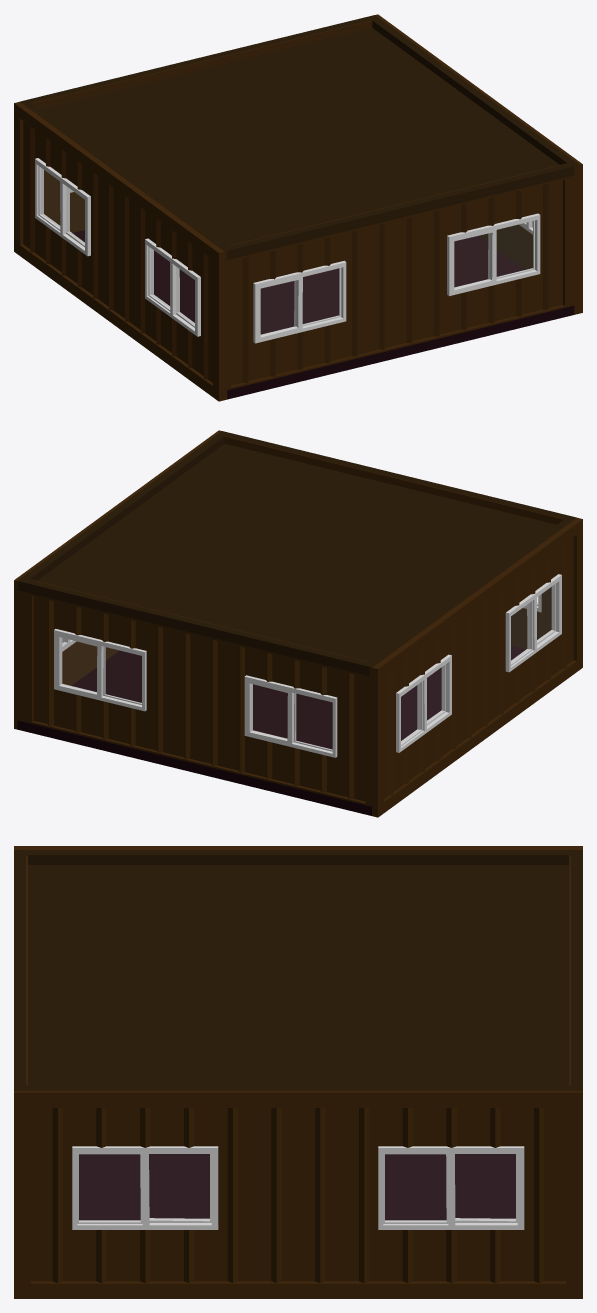
Rendered from 3D_10x10MedWindows.fbx.
The picture shows the model from 3 angles, top to bottom: view 1: azimuth 30°, elevation 25°; view 2: azimuth 150°, elevation 25°; view 3: azimuth 270°, elevation 25°; orthographic projection. The views are drawn at different scales.
Parts seen in each view (by area): view 1: Cube.023; view 2: Cube.023; view 3: Cube.023.
Part boxes in pixels (x1,y1,x2,y2): Cube.023: (14,14,582,401); Cube.023: (14,430,582,817); Cube.023: (14,846,582,1298).
Bounding box in the file's own units: 1026 × 400 × 1000.
